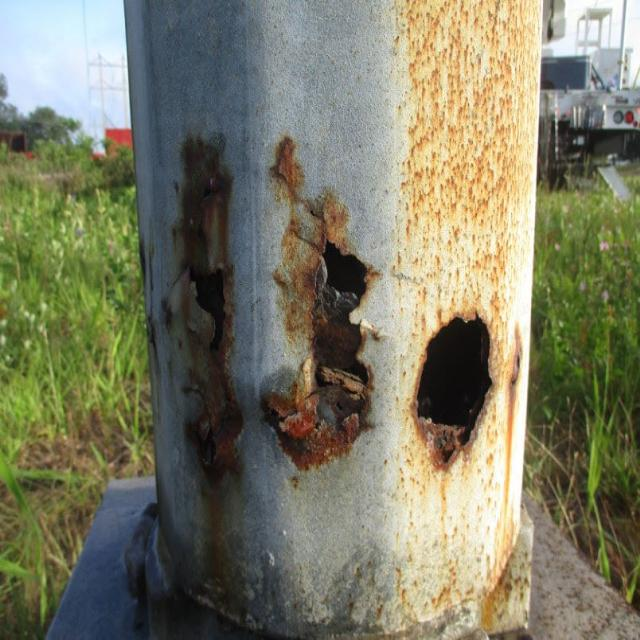damaged_tower: (153, 142, 523, 486)
